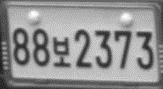2: (74, 28, 92, 68)
3: (136, 30, 154, 70), (94, 29, 112, 68)
7: (114, 30, 132, 69)
8: (12, 27, 30, 65), (32, 28, 50, 66)
보: (52, 36, 71, 68)
